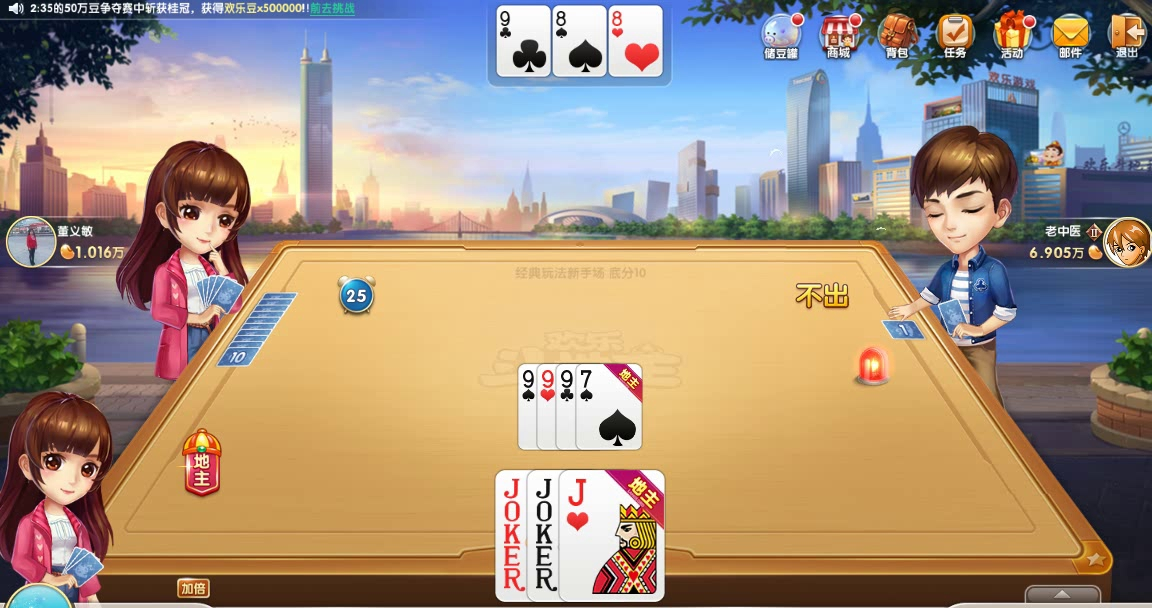11~3: (557, 470, 665, 602)
17~3: (526, 469, 634, 601)
18~4: (495, 469, 603, 601)
7~4: (574, 362, 643, 451)
8~3: (609, 4, 664, 76)
8~4: (552, 4, 607, 76)
9~2: (556, 362, 625, 451), (496, 5, 551, 77)
9~3: (536, 362, 605, 451)
9~4: (518, 362, 587, 451)
